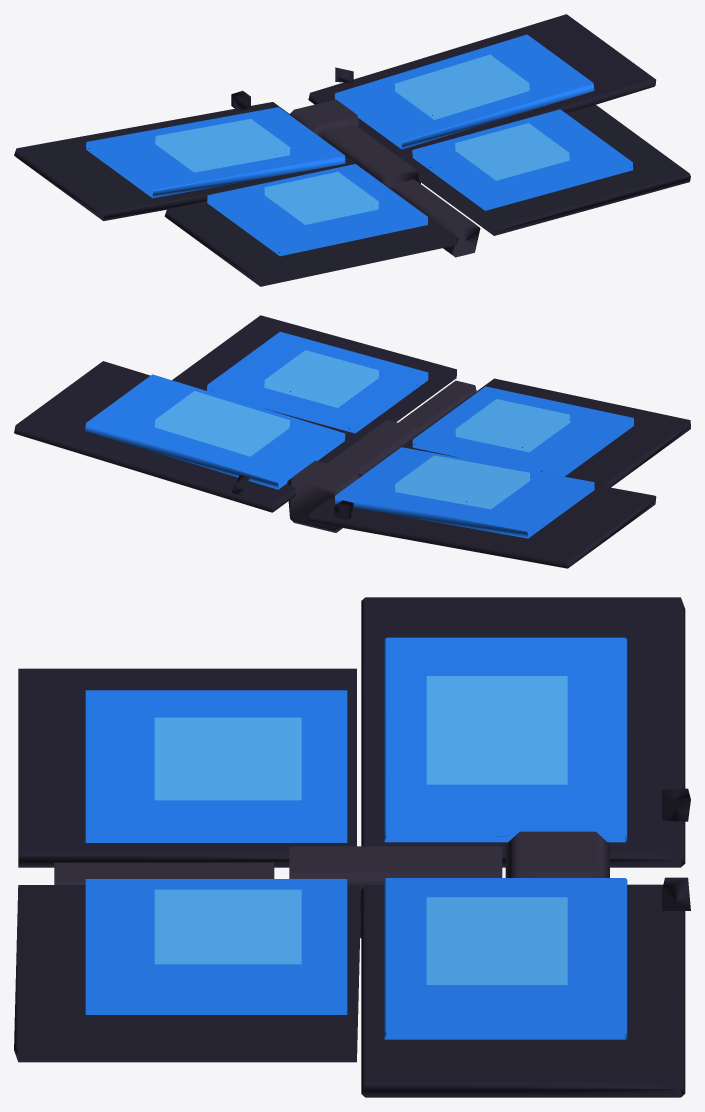
Rendered from butterfly-poly-by-google_814CINpG3H1-blocky_lod2.glb.
The picture shows the model from 3 angles, top to bottom: view 1: azimuth 30°, elevation 25°; view 2: azimuth 150°, elevation 25°; view 3: azimuth 270°, elevation 25°; orthographic projection. The views are drawn at different scales.
Visible parts, largest first — view 1: Butterfly.1; view 2: Butterfly.1; view 3: Butterfly.1.
Boxes of the visible parts, <box> form: Butterfly.1: <box>14,14,690,286</box>; Butterfly.1: <box>14,315,690,568</box>; Butterfly.1: <box>14,597,690,1097</box>.
Size of the model in its own units: 210 by 22.21 by 123.
1 material, 1 textured.
